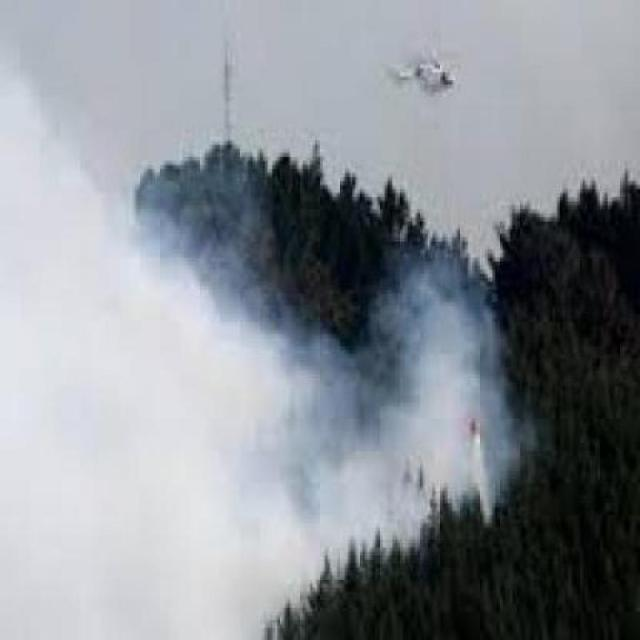Smoke: (208, 322, 502, 533)
